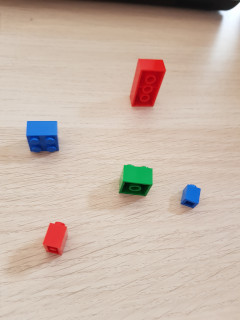1x1 blue: (180, 182, 202, 209)
2x2 blue: (26, 120, 60, 153)
2x2 green: (117, 161, 155, 197)
2x4 red: (128, 58, 166, 108)
